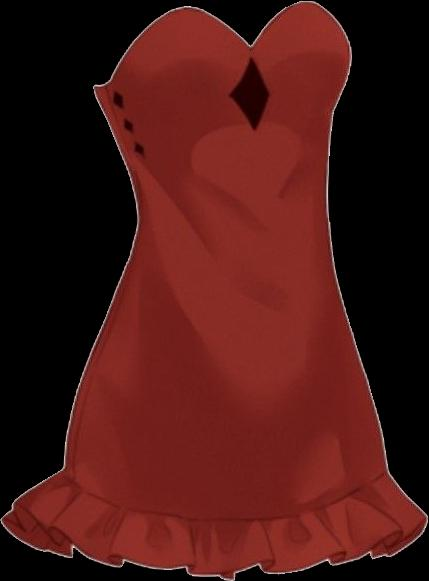Bodice: (93, 1, 351, 223)
Hemline: (2, 503, 428, 580)
Neckline: (91, 0, 354, 91)
Skirt: (1, 222, 427, 580)
Waistline: (60, 468, 387, 522)
